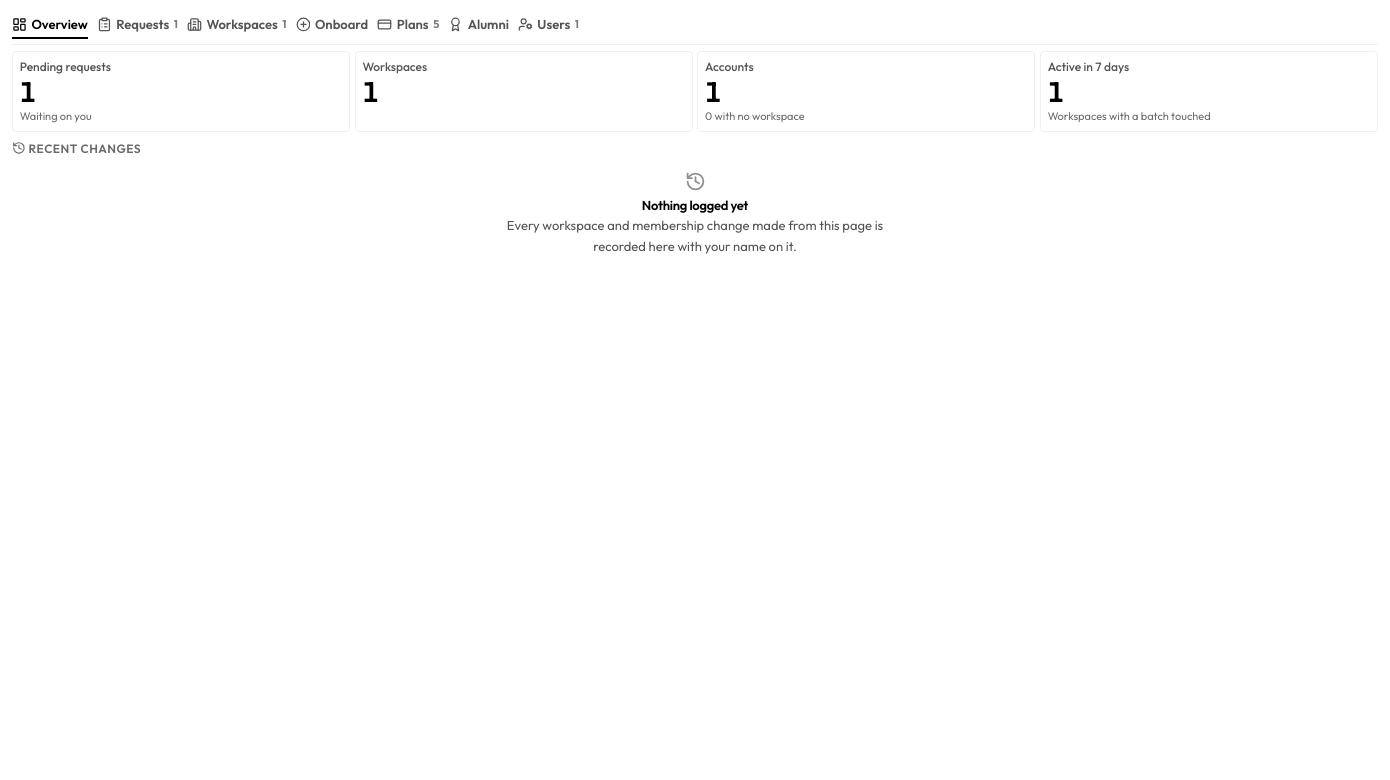
Test: FounderConsole — plan history and alumni › an expanded workspace shows its plan history, SQL-editor changes included
Click the tab "Workspaces 1": (237, 26) [187,12,286,39]
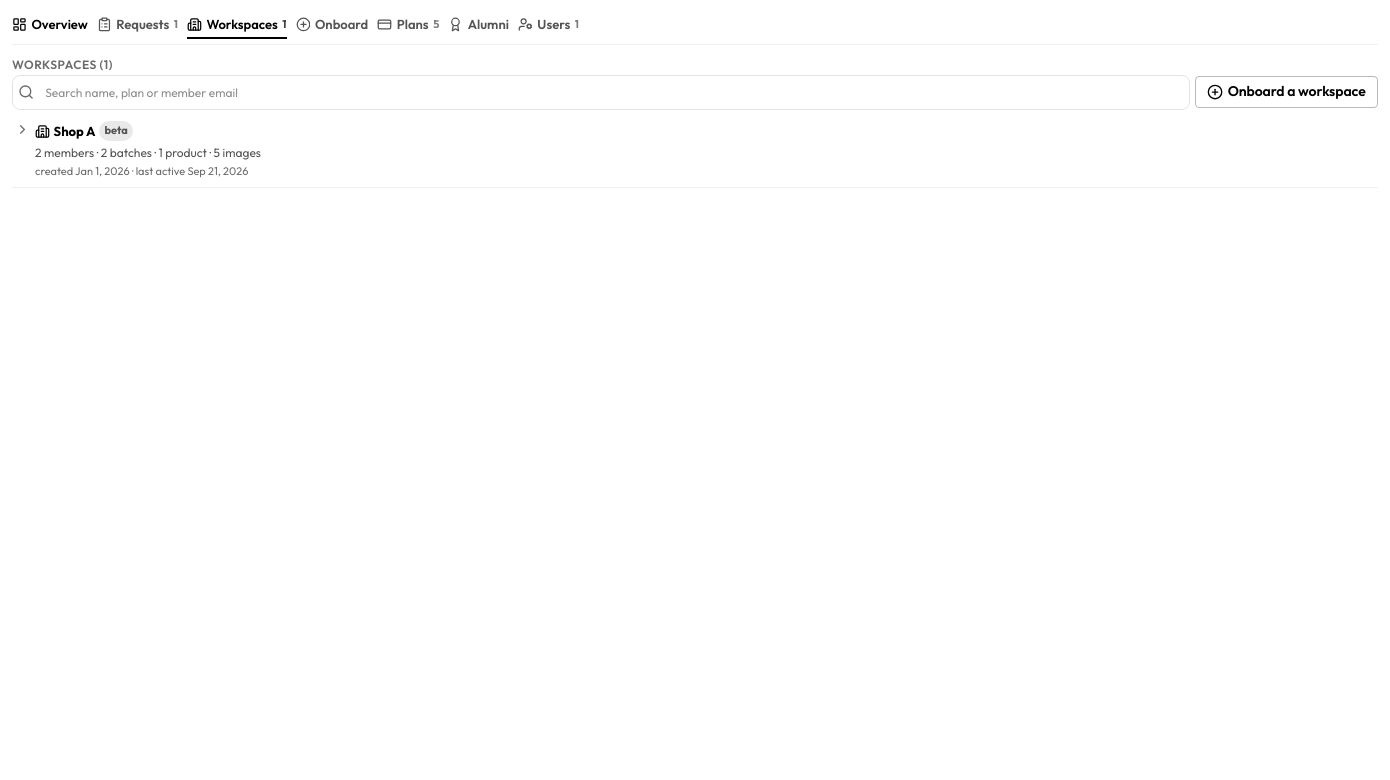
Click the button with class "fc-org-head": (74, 131) [12,114,1378,187]
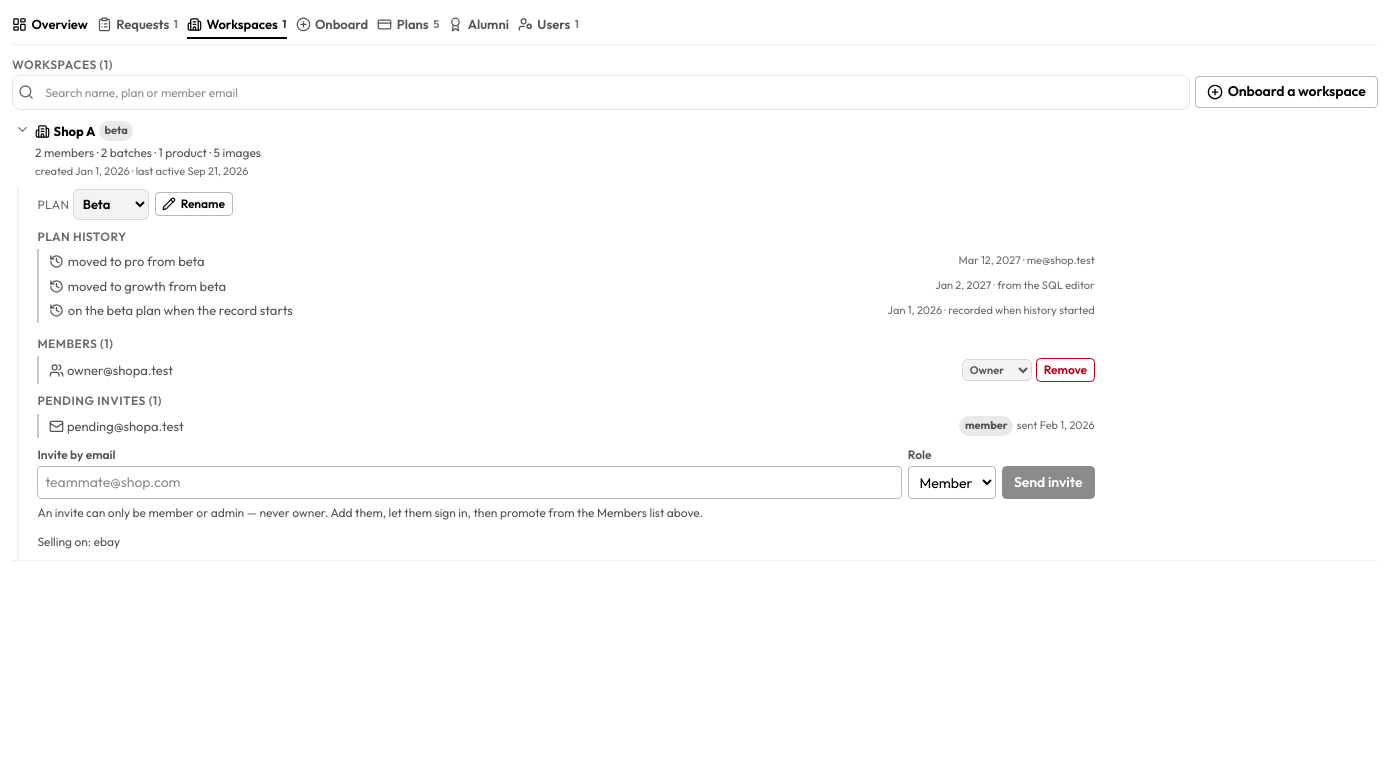
Check: the element with class "fc-org-body" shows "moved to pro from beta", box [68,253,205,269]
Check: the element with class "fc-org-body" shows "me@shop.test", box [1027,254,1095,268]
Check: the element with class "fc-org-body" shows "from the SQL editor", box [997,278,1095,292]
